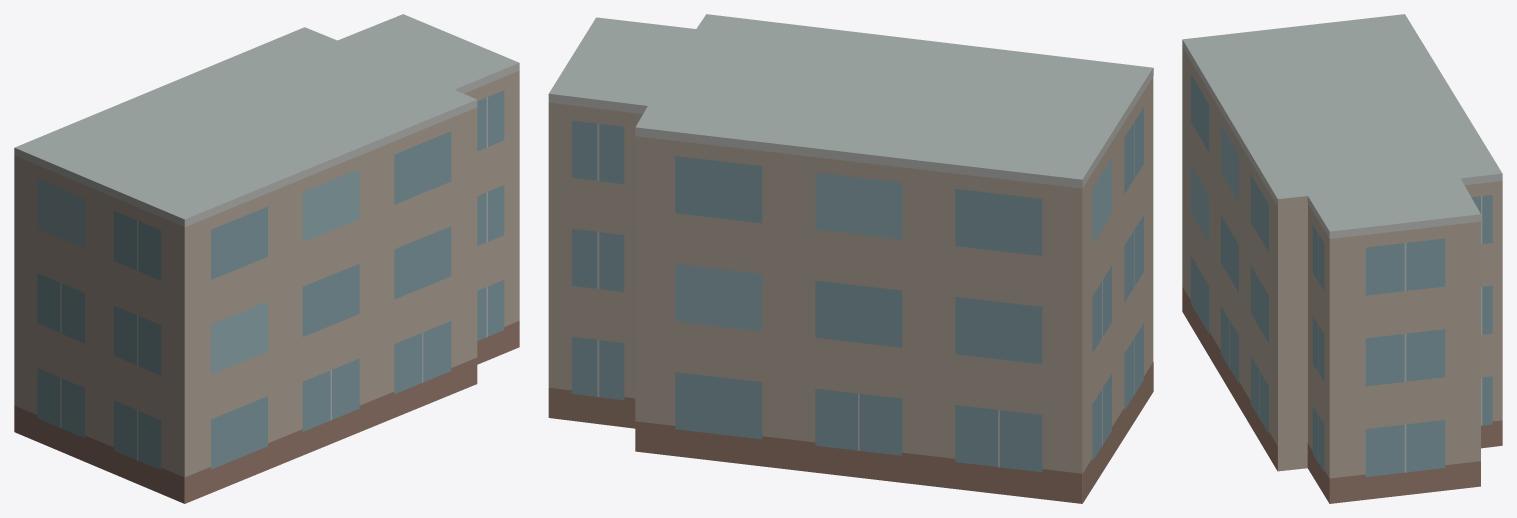
The model's file is survey-upis-32934891.glb.
3 renders of one model, left to right at view 1: azimuth 30°, elevation 25°; view 2: azimuth 150°, elevation 25°; view 3: azimuth 270°, elevation 25°, orthographic. The views are drawn at different scales.
Visible parts, largest first — view 1: survey-upis-32934891.tmp; view 2: survey-upis-32934891.tmp; view 3: survey-upis-32934891.tmp.
Boxes of the visible parts, x1=… form: survey-upis-32934891.tmp: x1=14, y1=14, x2=519, y2=503; survey-upis-32934891.tmp: x1=548, y1=14, x2=1153, y2=503; survey-upis-32934891.tmp: x1=1182, y1=14, x2=1502, y2=503.
Size of the model in its own units: 15.44 by 9 by 9.6.
